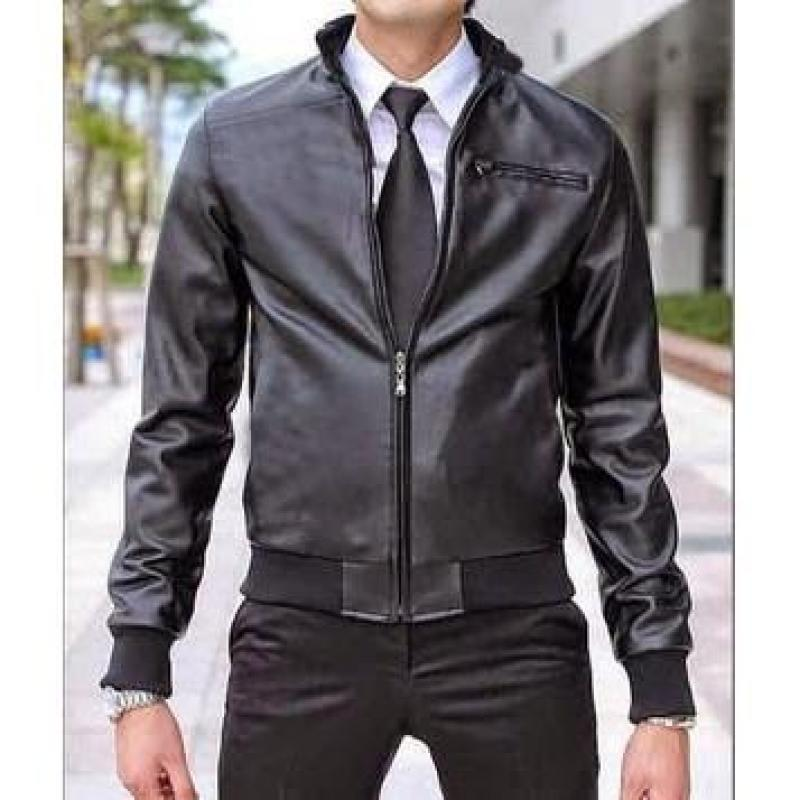jacket: (97, 13, 700, 723)
long sleeve shirt: (340, 23, 481, 311)
trousers: (214, 588, 603, 800)
